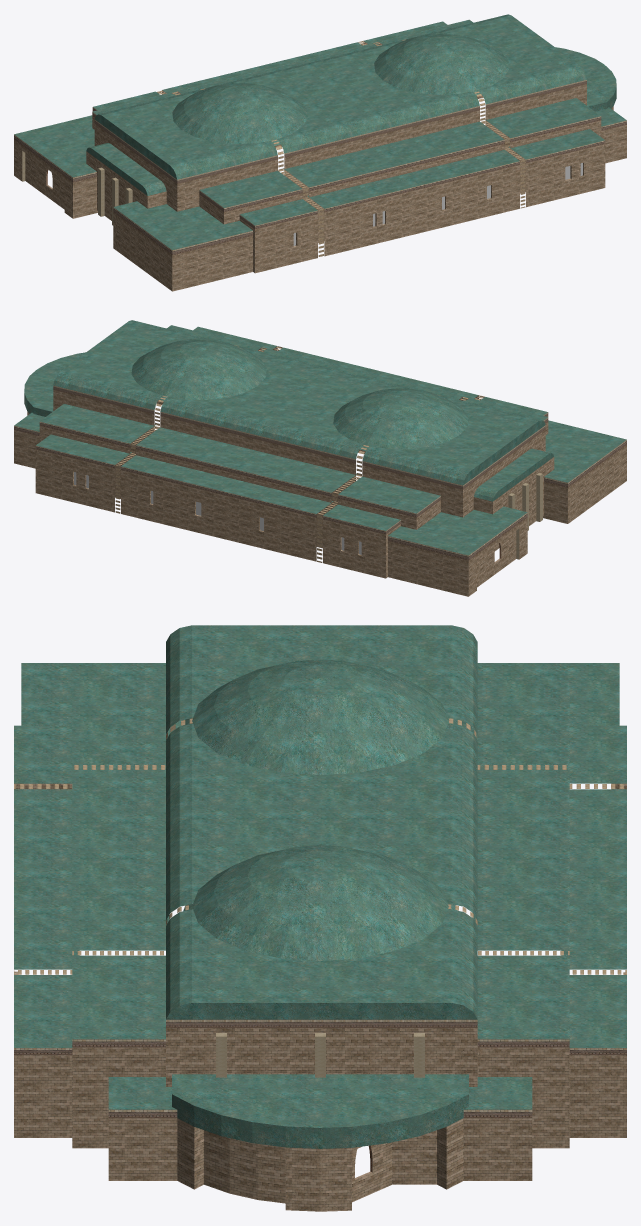
The model's file is thm_nboo_cantina_r0_mesh_l0.fbx.
3 renders of one model, top to bottom at view 1: azimuth 30°, elevation 25°; view 2: azimuth 150°, elevation 25°; view 3: azimuth 270°, elevation 25°, orthographic. The views are drawn at different scales.
Visible parts, largest first — view 1: mesh_node; view 2: mesh_node; view 3: mesh_node.
Part boxes in pixels (left/top/right/bottom): mesh_node: left=14, top=14, right=626, bottom=291; mesh_node: left=14, top=320, right=626, bottom=596; mesh_node: left=14, top=625, right=626, bottom=1211.
Size of the model in its own units: 101 by 19.97 by 55.66.
